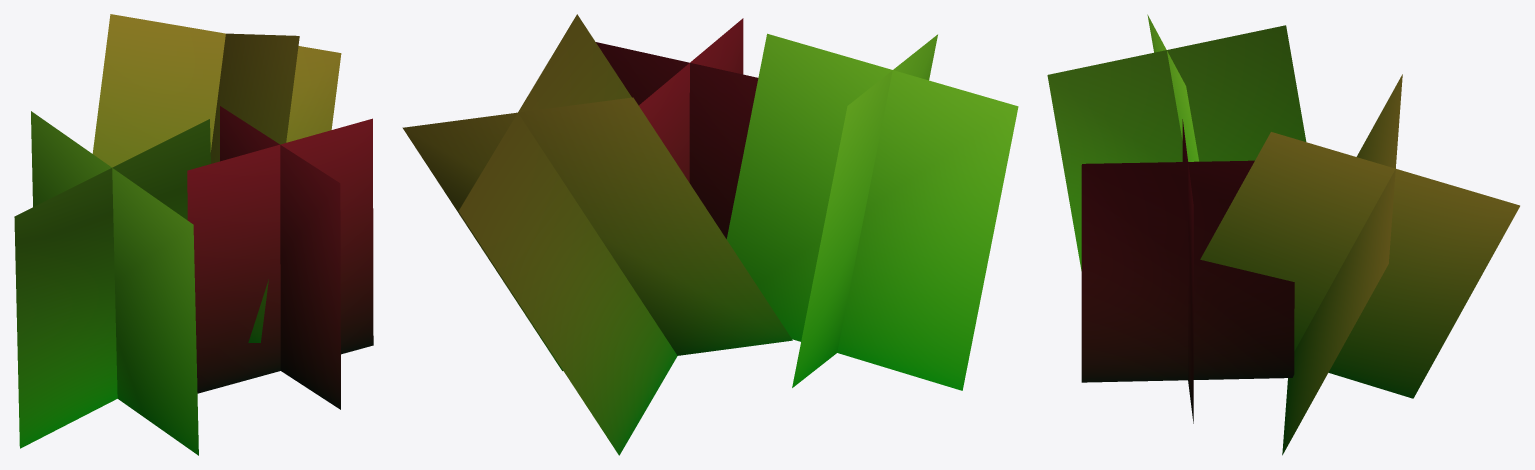
File: Grass_Small.fbx
3 renders of one model, left to right at view 1: azimuth 30°, elevation 25°; view 2: azimuth 150°, elevation 25°; view 3: azimuth 270°, elevation 25°, orthographic. The views are drawn at different scales.
Visible parts, largest first — view 1: untitled-1_0; view 2: untitled-1_0; view 3: untitled-1_0.
Part boxes in pixels (bbox=[...]): untitled-1_0: bbox=[14, 14, 373, 455]; untitled-1_0: bbox=[402, 14, 1018, 455]; untitled-1_0: bbox=[1047, 14, 1519, 455].
Bounding box in the file's own units: 236 × 167 × 222.
